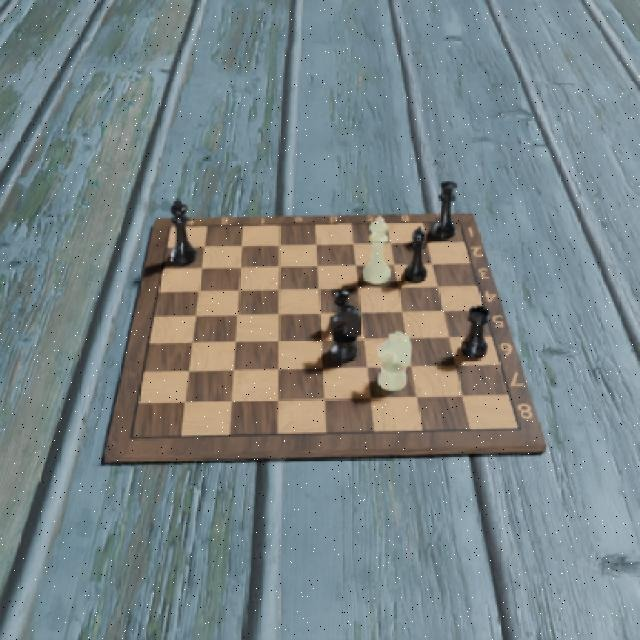black-bishop: (401, 224, 431, 286)
black-king: (167, 196, 199, 267)
black-knight: (327, 303, 360, 365)
black-pawn: (327, 286, 357, 337)
black-queen: (430, 178, 458, 242)
black-rook: (459, 304, 491, 360)
white-king: (362, 214, 394, 286)
white-knight: (373, 327, 414, 392)
